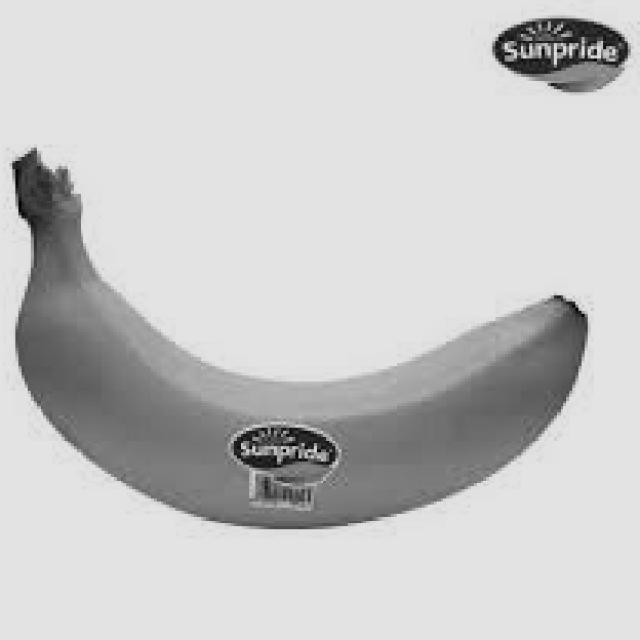pisang: (0, 144, 588, 538)
